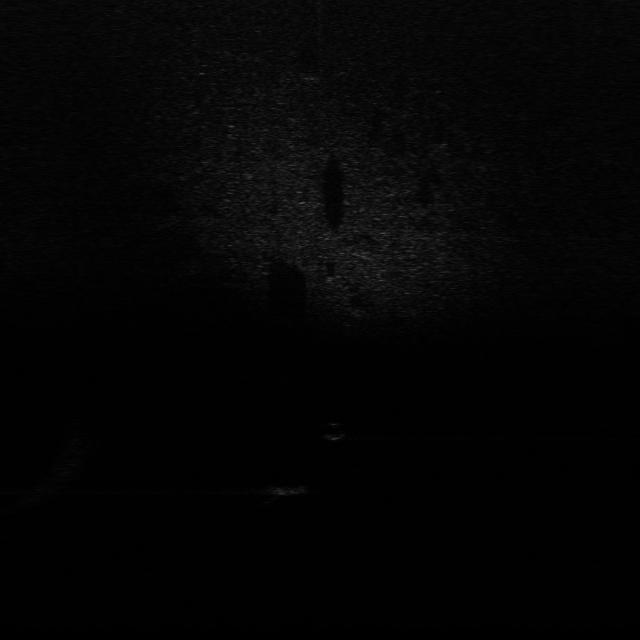ball: (314, 418, 348, 442)
square cage: (256, 482, 323, 499)
